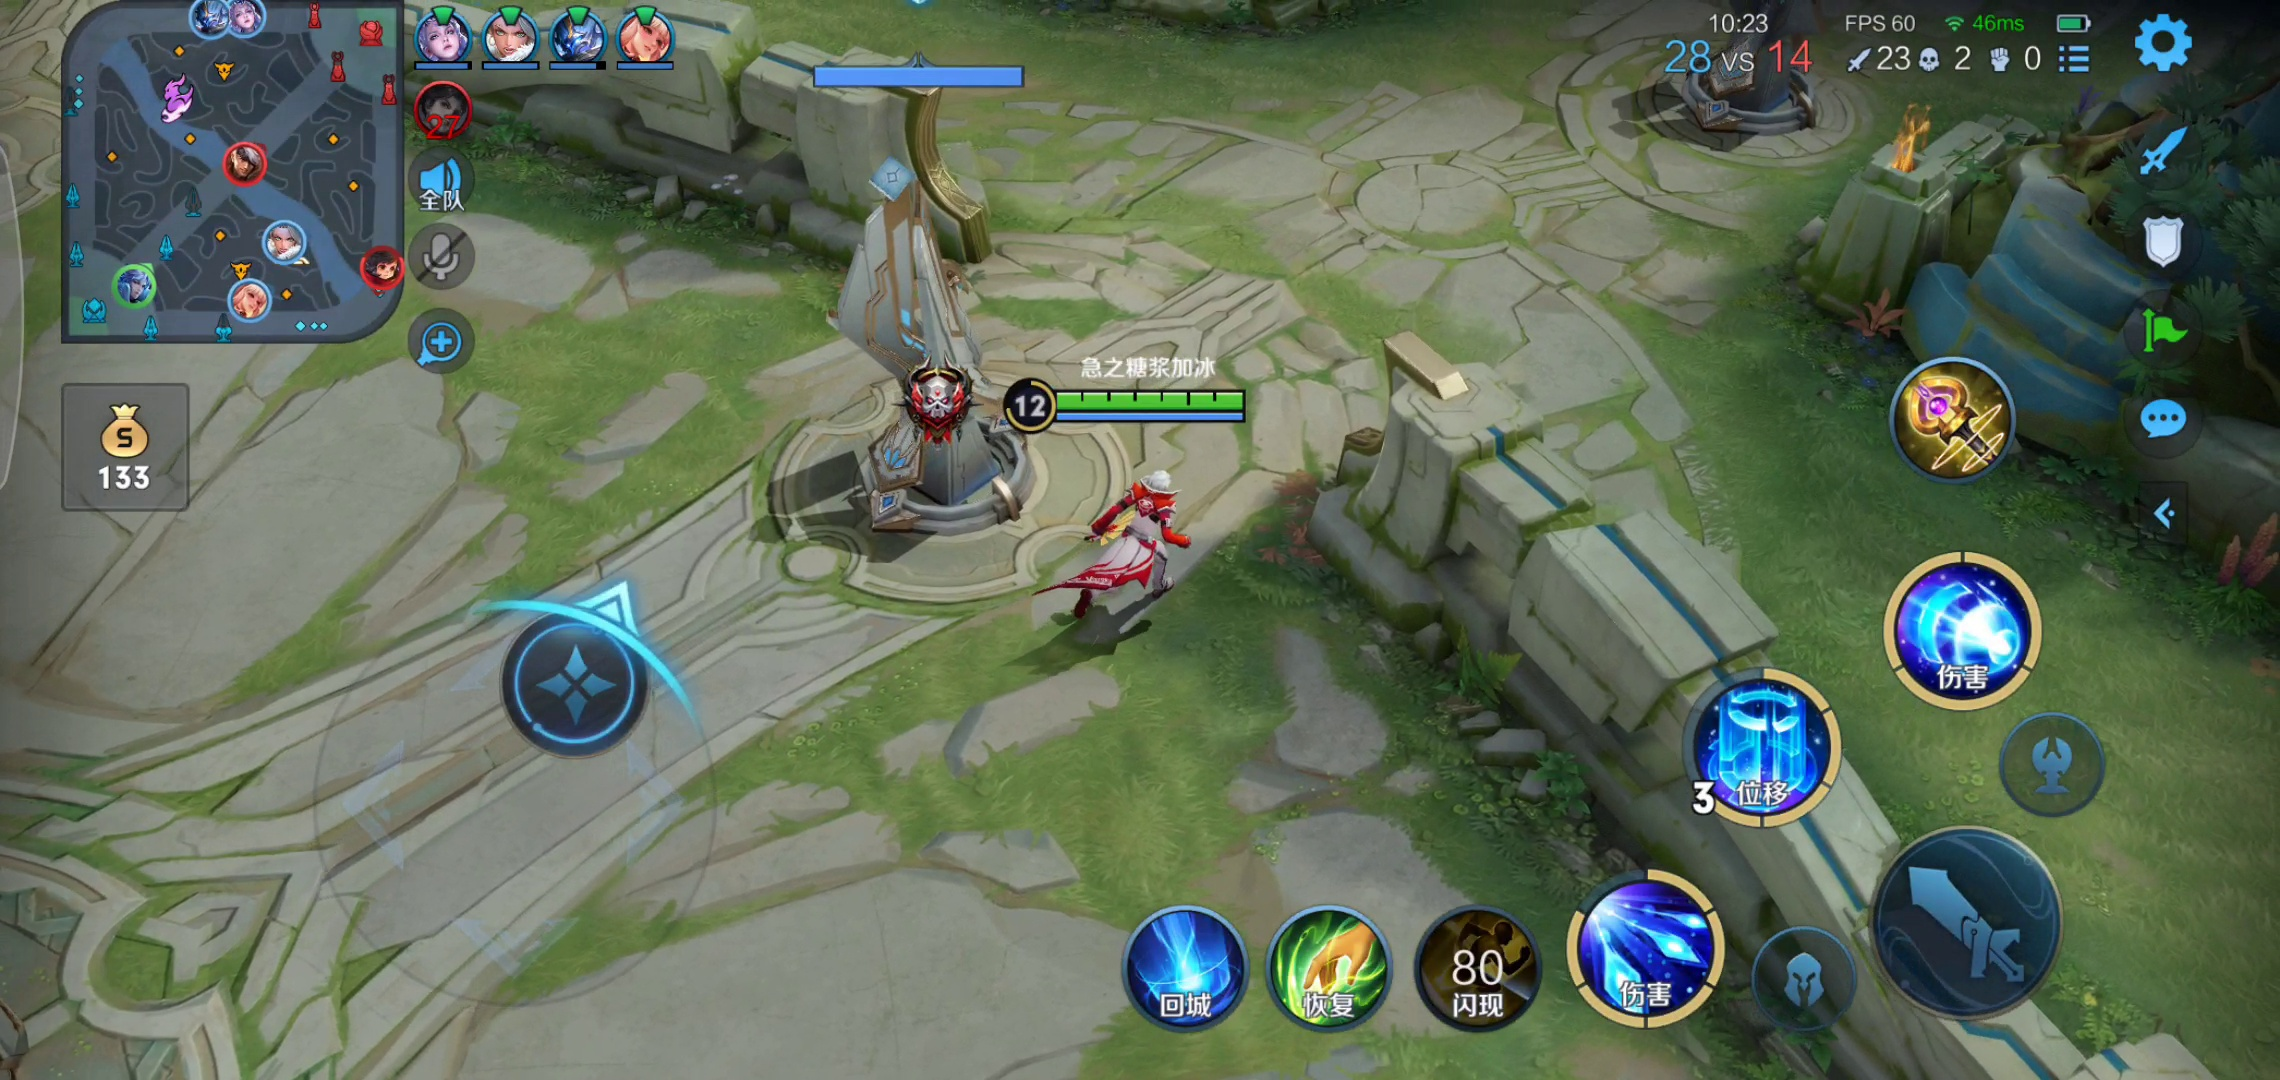hero: (1056, 464, 1208, 629)
tower: (797, 154, 1050, 538), (1618, 7, 1874, 150)
